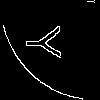Y: (25, 24, 70, 62)
